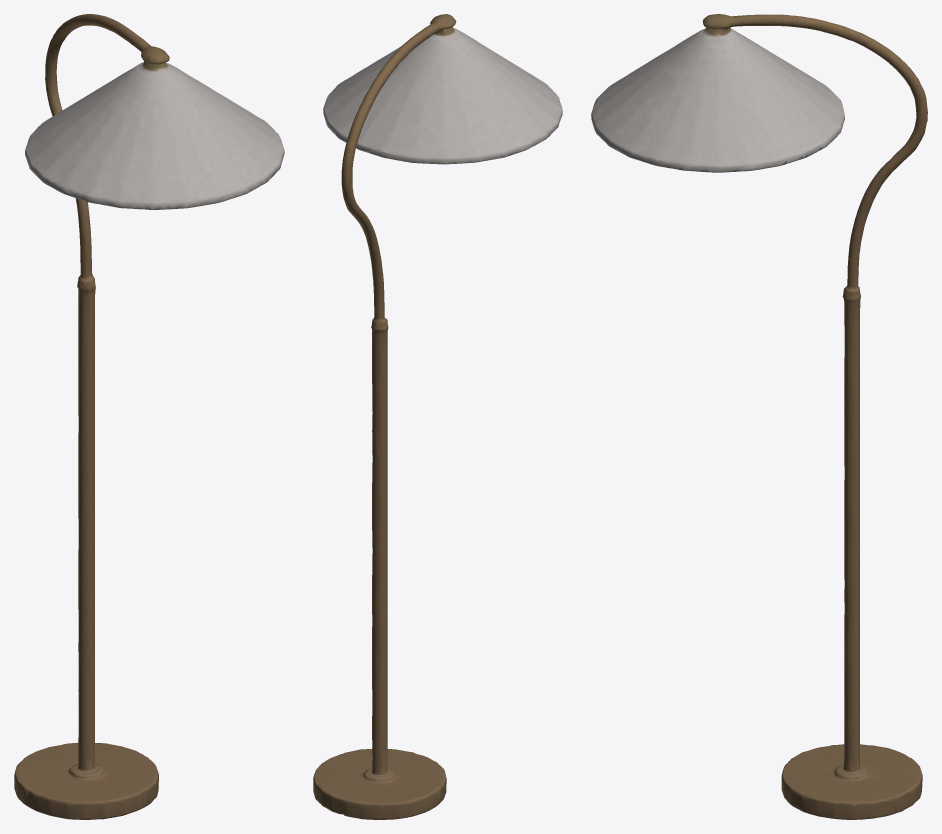
Rendered from floor-lamp-bronze-arc-web-mesh.glb.
3 renders of one model, left to right at view 1: azimuth 30°, elevation 25°; view 2: azimuth 150°, elevation 25°; view 3: azimuth 270°, elevation 25°, orthographic. The views are drawn at different scales.
Visible parts, largest first — view 1: world; view 2: world; view 3: world.
Boxes of the visible parts, <box> form: world: <box>14,14,284,819</box>; world: <box>313,14,562,819</box>; world: <box>591,14,927,819</box>.
Bounding box in the file's own units: 0.2981 × 1 × 0.3948.
Materials: 1 (1 with a texture image).
